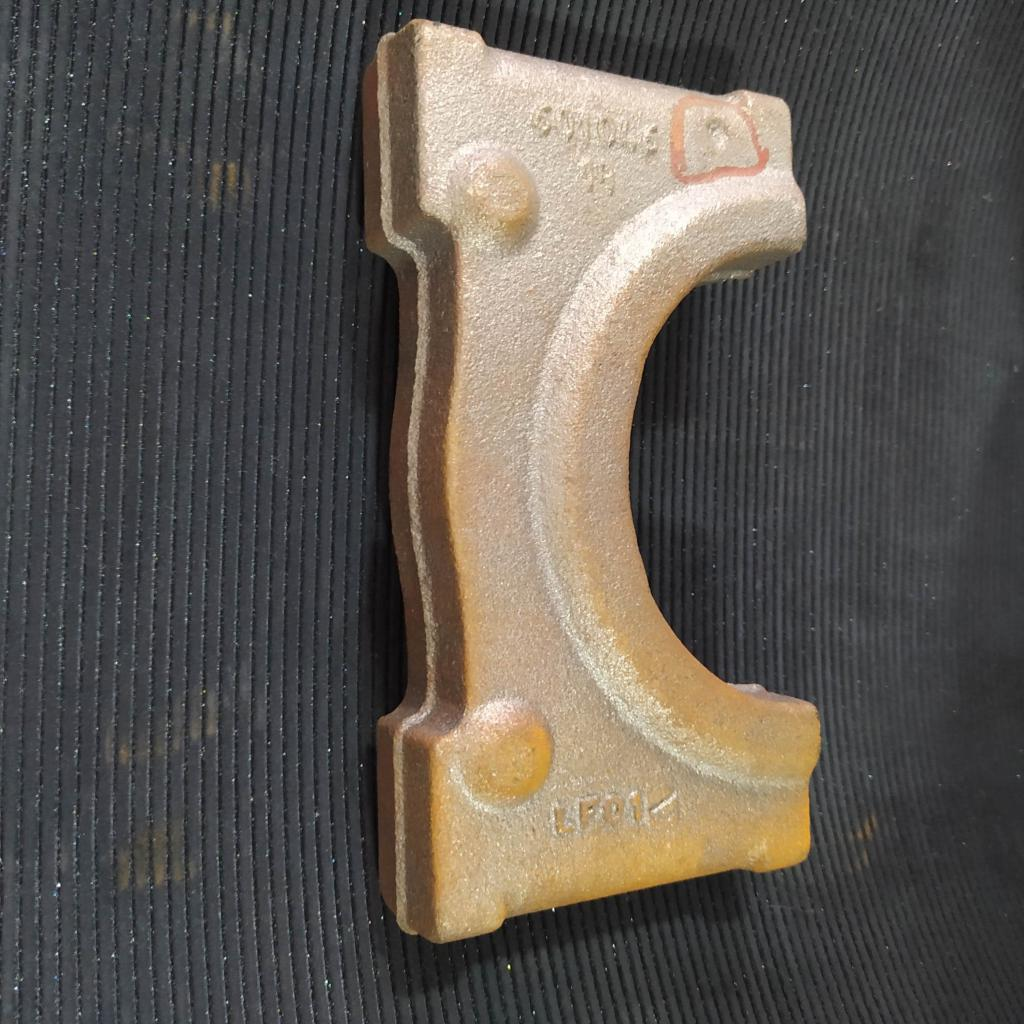buraco: (704, 113, 730, 160)
